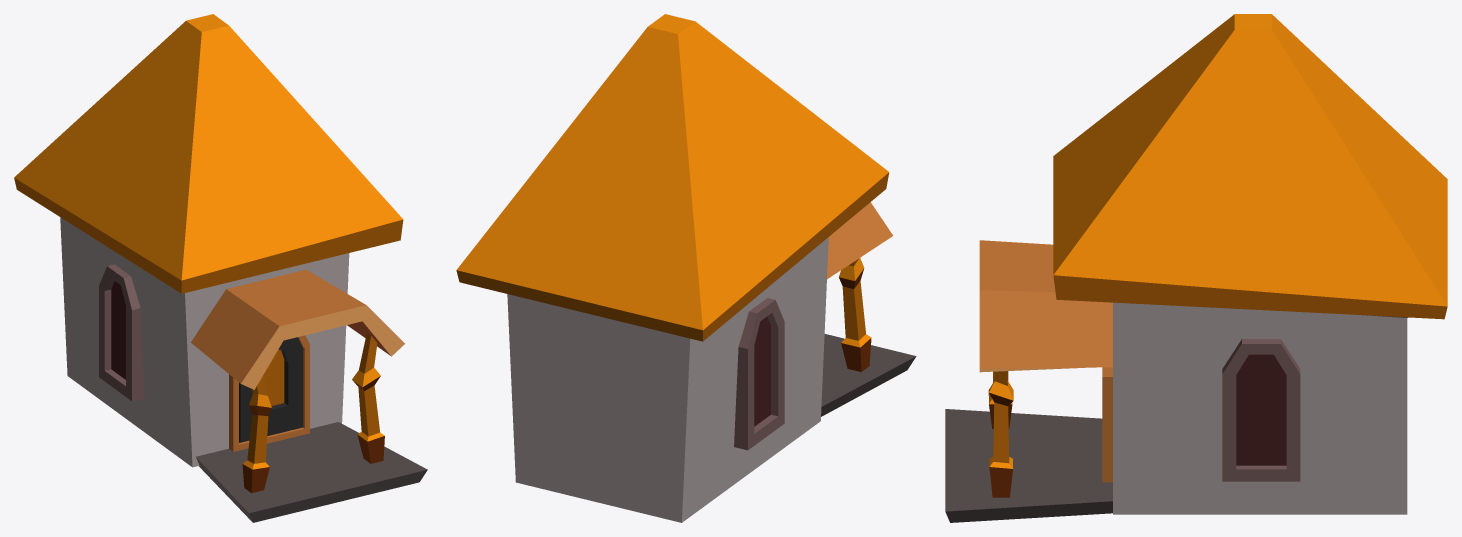
The model's file is HWN20_PetTomb_01.glb.
3 renders of one model, left to right at view 1: azimuth 30°, elevation 25°; view 2: azimuth 150°, elevation 25°; view 3: azimuth 270°, elevation 25°, orthographic. The views are drawn at different scales.
Parts seen in each view (by area): view 1: HWN20_PetTomb_01; view 2: HWN20_PetTomb_01; view 3: HWN20_PetTomb_01.
Part boxes in pixels (<box>): HWN20_PetTomb_01: <box>14,14,427,522</box>; HWN20_PetTomb_01: <box>456,14,916,522</box>; HWN20_PetTomb_01: <box>945,14,1447,522</box>.
Size of what is drawn, in the model's own units: 1.93 by 3.21 by 3.22.
Materials: 1 (1 with a texture image).
